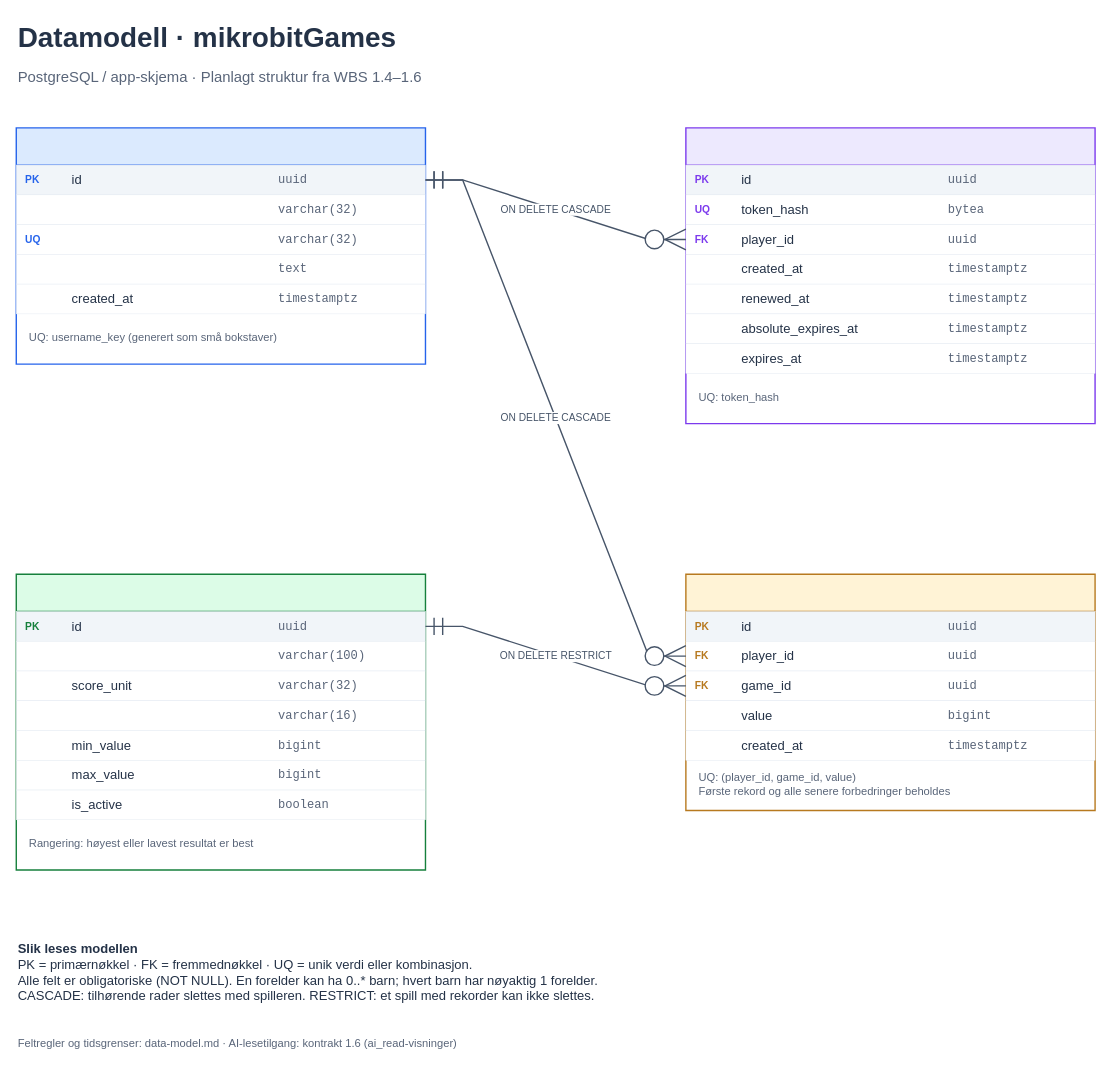
This 1112x1073 diagram has some shape labels left out. The shapes that lost their labels are listed below. From the top down, each one's box as (x1, y1, x2, y2) in pixels, then its label:
(16, 194, 425, 224): username
(16, 224, 425, 254): username_key
(15, 127, 426, 364): app.players
(16, 254, 425, 284): password_hash
(685, 127, 1095, 424): app.sessions
(16, 641, 425, 671): name
(685, 573, 1095, 811): app.records
(16, 700, 425, 730): ranking_direction
(15, 573, 426, 870): app.games
